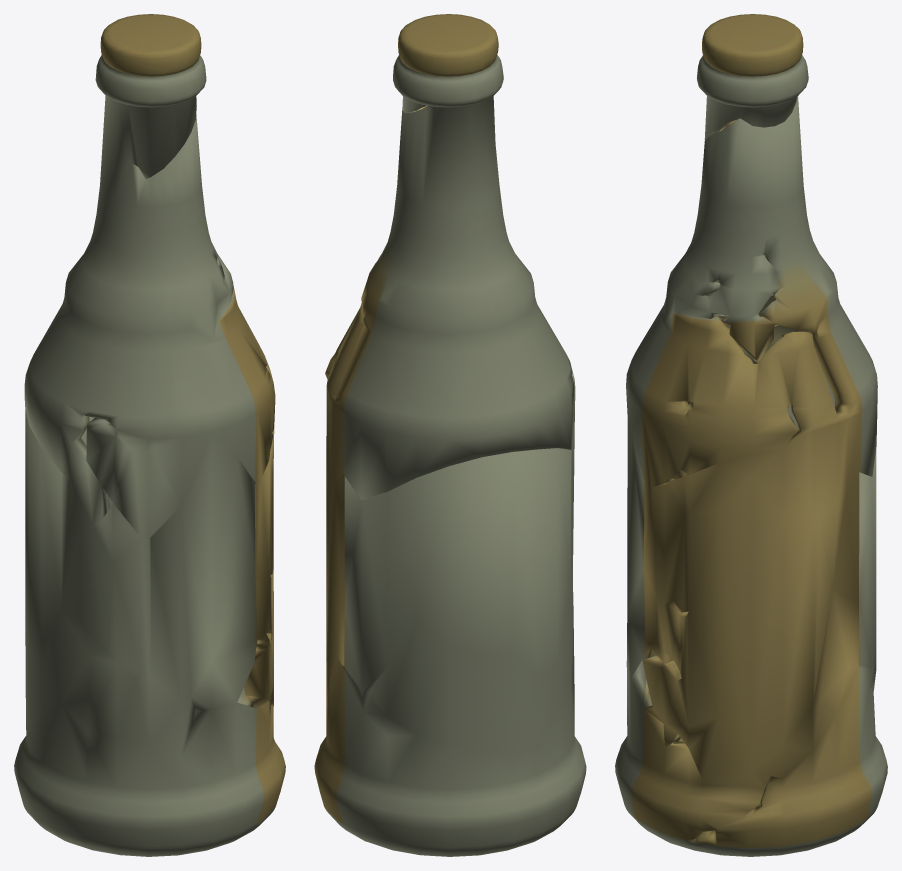
File: bottle-rot.glb
3 renders of one model, left to right at view 1: azimuth 30°, elevation 25°; view 2: azimuth 150°, elevation 25°; view 3: azimuth 270°, elevation 25°, orthographic.
Visible parts, largest first — view 1: tripo_node_a708fa09-6ede-41ff-97fd-8ad41e618dcf; view 2: tripo_node_a708fa09-6ede-41ff-97fd-8ad41e618dcf; view 3: tripo_node_a708fa09-6ede-41ff-97fd-8ad41e618dcf.
Part boxes in pixels (bbox=[...]): tripo_node_a708fa09-6ede-41ff-97fd-8ad41e618dcf: bbox=[14, 14, 285, 856]; tripo_node_a708fa09-6ede-41ff-97fd-8ad41e618dcf: bbox=[314, 14, 586, 856]; tripo_node_a708fa09-6ede-41ff-97fd-8ad41e618dcf: bbox=[615, 14, 887, 856].
Bounding box in the file's own units: 0.3179 × 0.9995 × 0.3179.
Materials: 1 (1 with a texture image).
